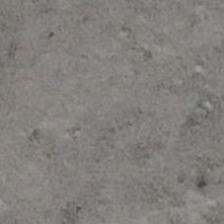Non_Crack: (17, 20, 187, 207)
